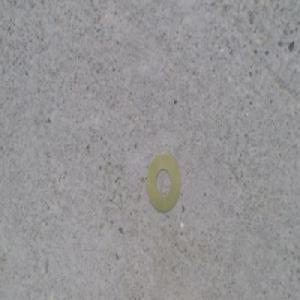Washer: (147, 149, 182, 209)
